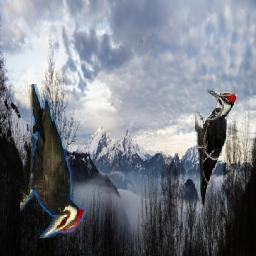Woodpecker: (20, 84, 88, 238), (195, 88, 237, 212)
